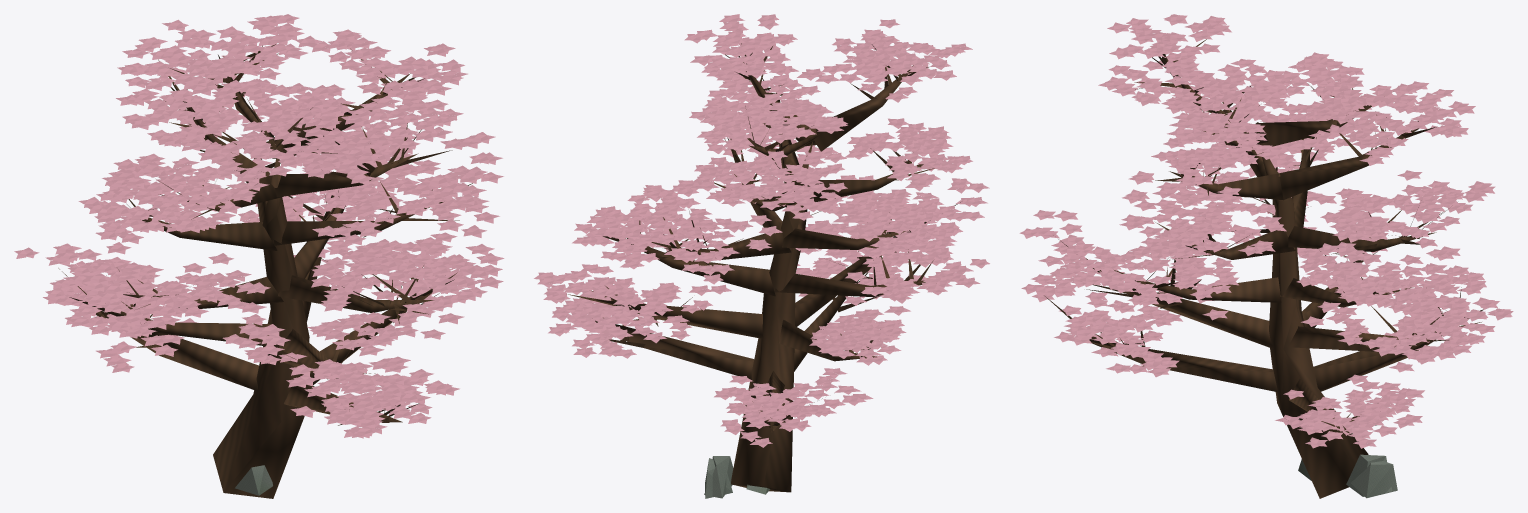
Rendered from v02_peach_1_lod1.fbx.
The picture shows the model from 3 angles, left to right: view 1: azimuth 30°, elevation 25°; view 2: azimuth 150°, elevation 25°; view 3: azimuth 270°, elevation 25°; orthographic projection. The views are drawn at different scales.
Parts seen in each view (by area): view 1: v02_peach_1.004; view 2: v02_peach_1.004; view 3: v02_peach_1.004.
Boxes of the visible parts, x1,y1,x2,y2 form: v02_peach_1.004: (14, 14, 504, 498); v02_peach_1.004: (534, 14, 989, 498); v02_peach_1.004: (1019, 14, 1513, 498).
Size of the model in its own units: 44370 by 41749 by 43482.
